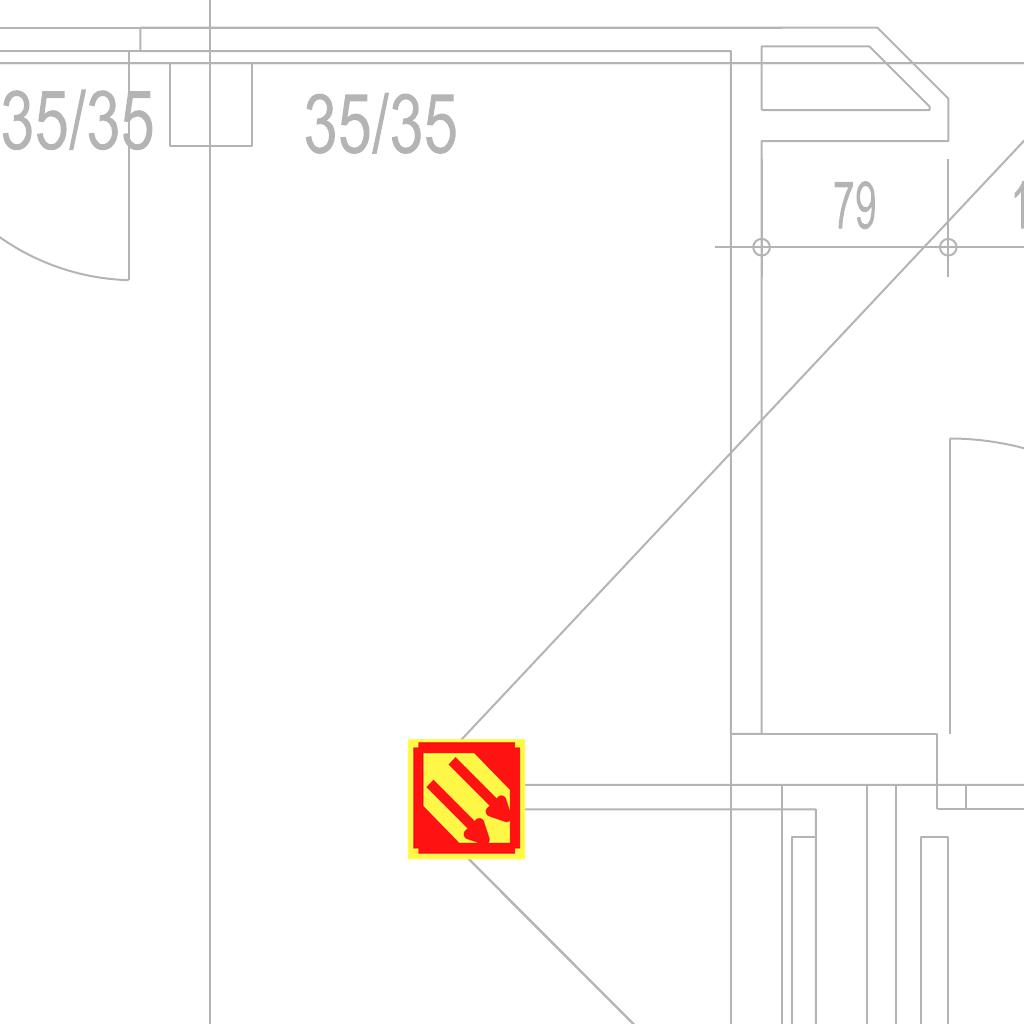ASR_Ansaugrauchmelder: (404, 737, 529, 862)
